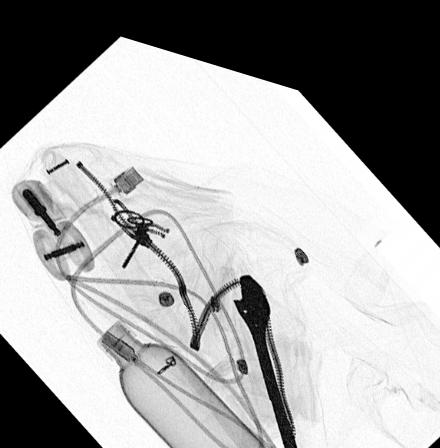Wrench: (230, 256, 303, 447)
